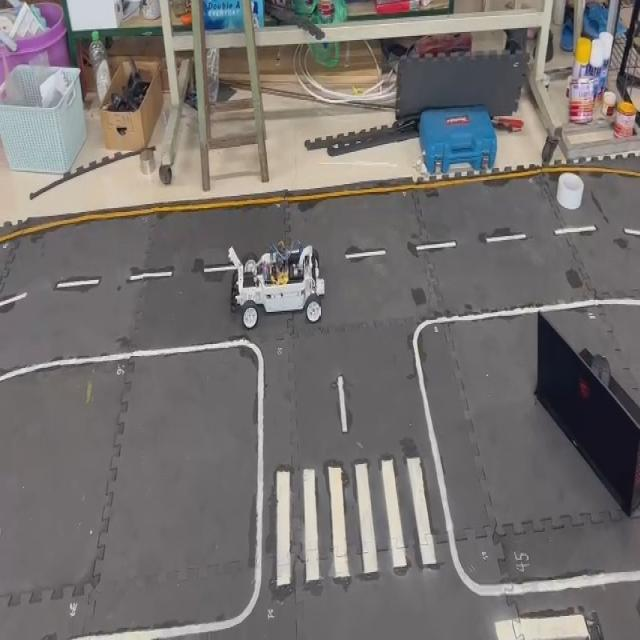SiCo-CAR: (227, 238, 325, 330)
